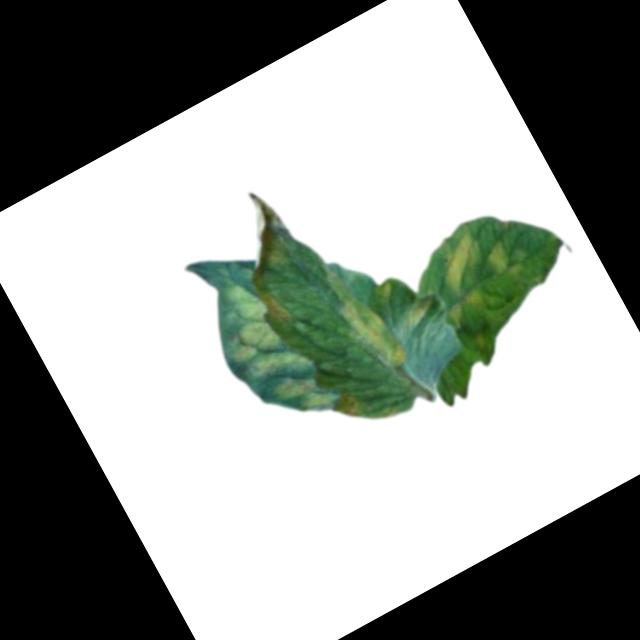Leaf_Mold: (202, 263, 342, 437), (335, 283, 412, 378), (429, 228, 496, 297), (248, 262, 296, 328), (480, 233, 527, 284), (443, 285, 492, 328), (403, 292, 437, 327)
